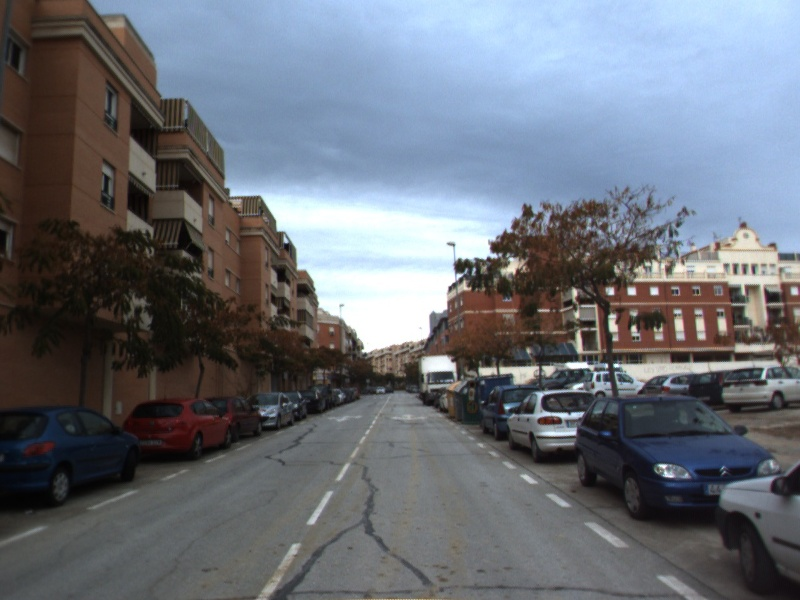STRAIGHT_LEFT_RIGHT: (388, 411, 430, 423)
